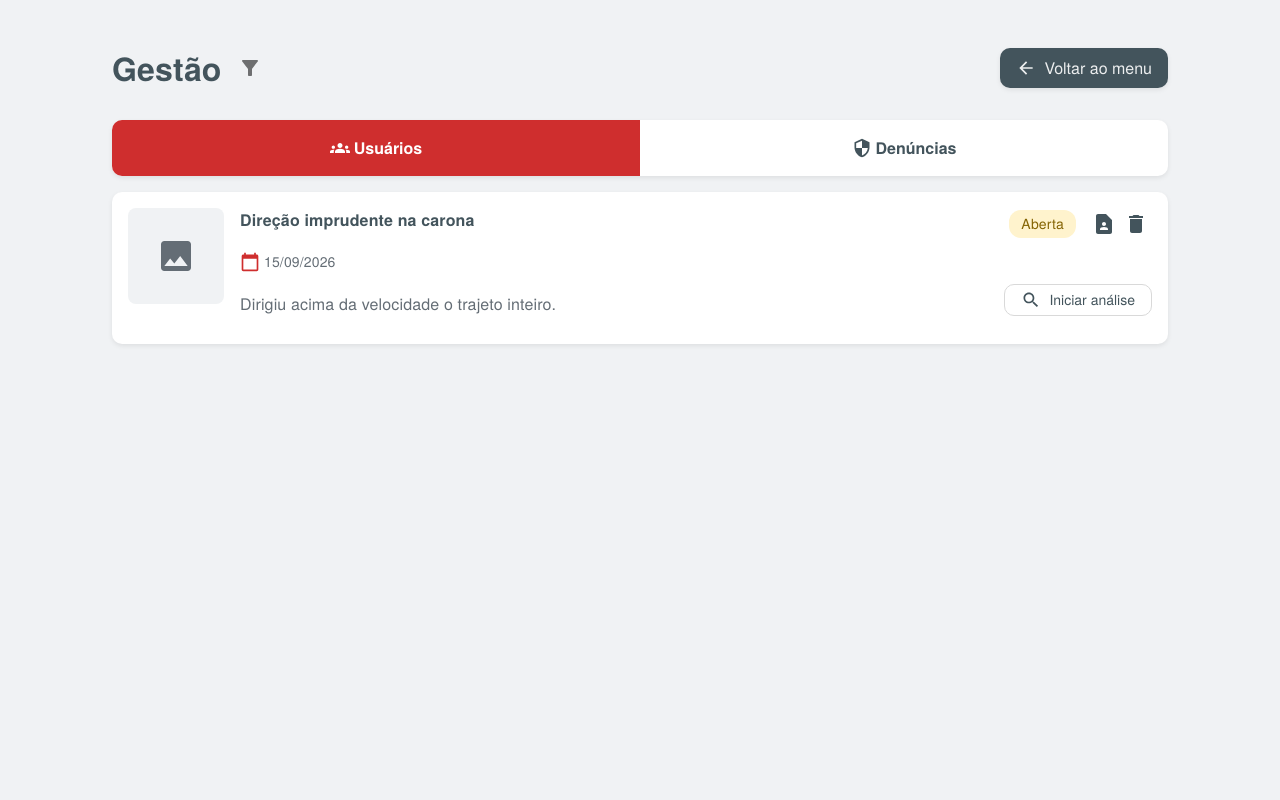
it: ReportsTab › should ask for the dismissal in red, with the trash over the message
This screenshot has width=1280, height=800.
Expected: the text "Dirigiu acima da velocidade o trajeto inteiro." is shown, x1=240 y1=292 x2=556 y2=315
Click the button named "Descartar denúncia".
click(1136, 224)  # box x1=1120 y1=208 x2=1152 y2=240
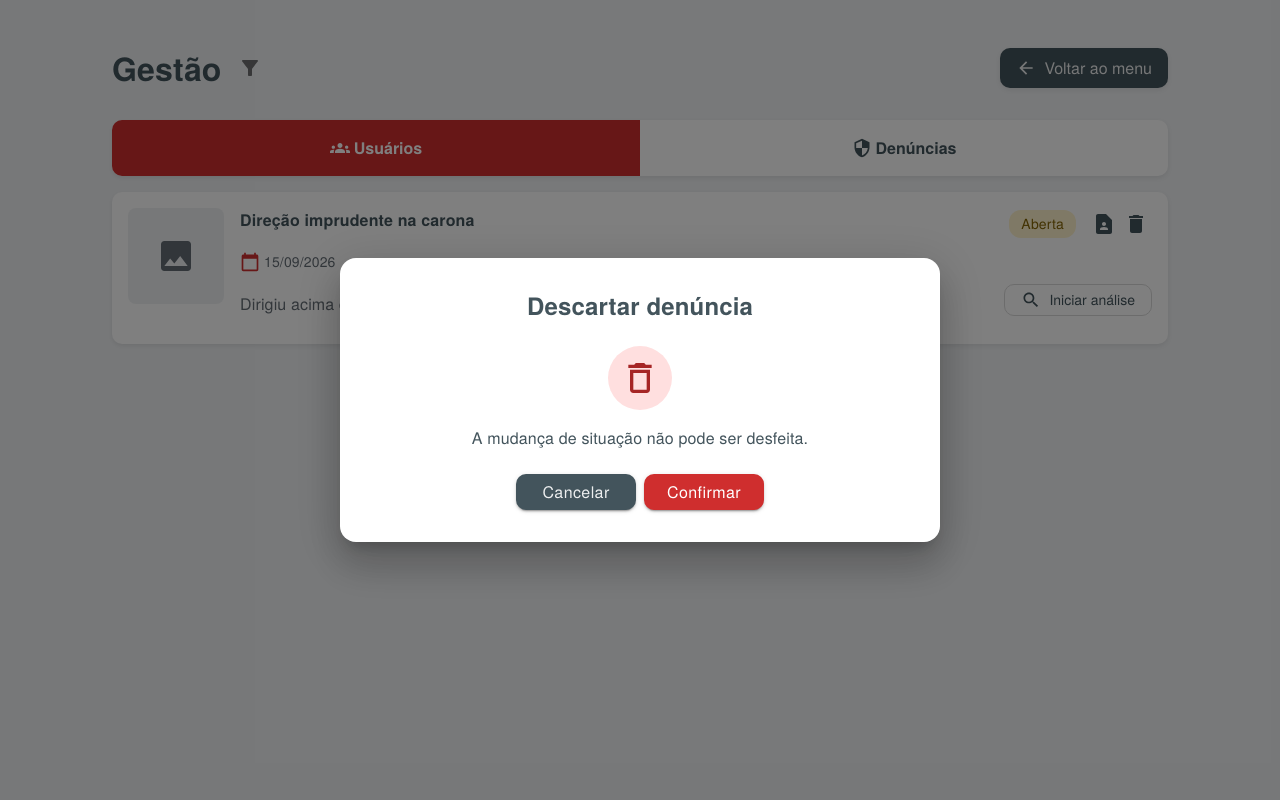
Result: the icon with test id "DeleteOutlinedIcon" is shown at x1=620 y1=358 x2=660 y2=398
